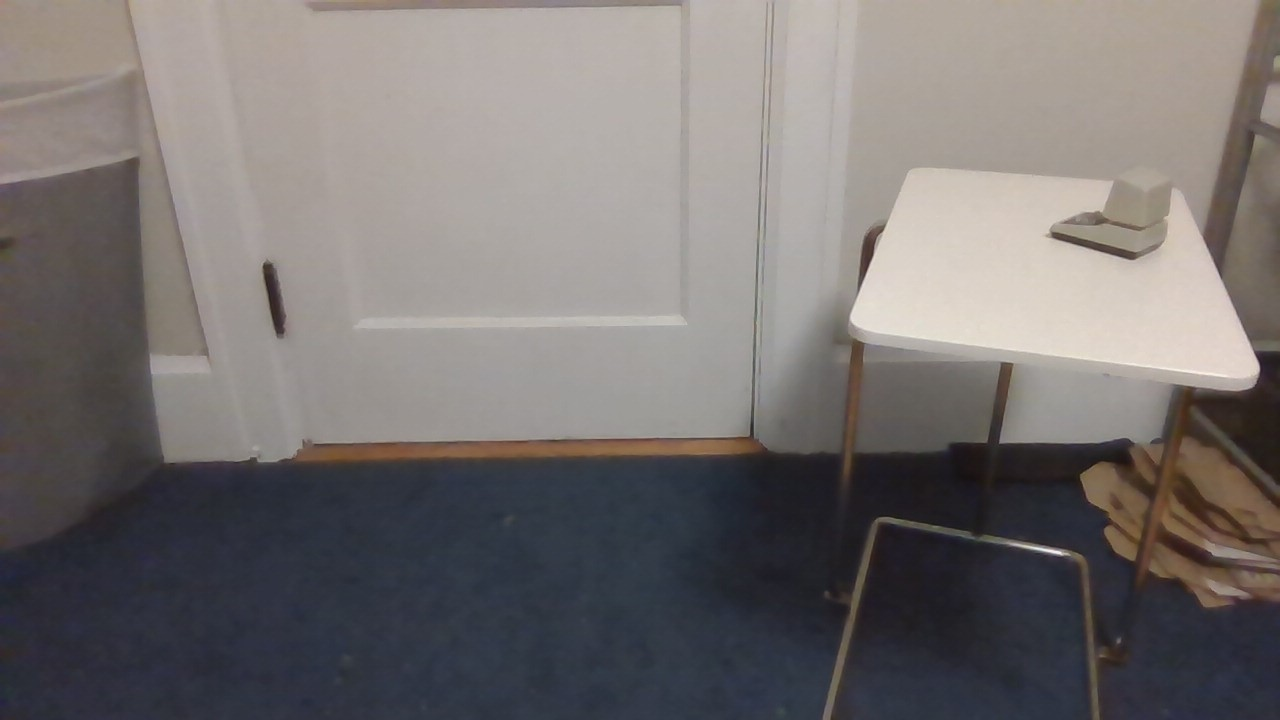Toy: (1041, 154, 1180, 268)
